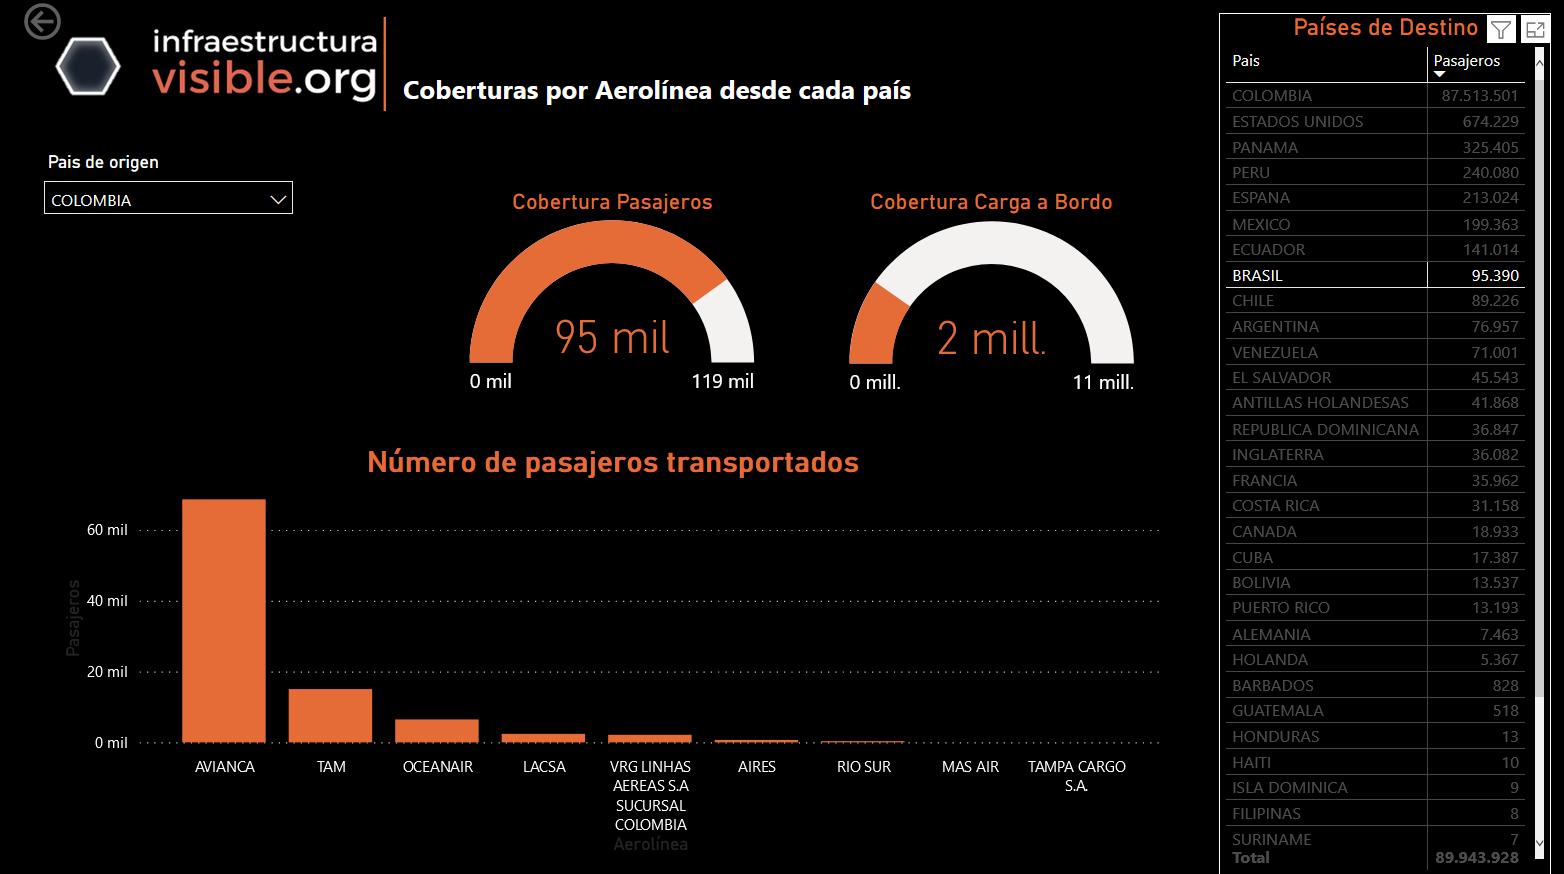

The dashboard page shown, as its layout file describes it:
{"tool":"powerbi","page":{"name":"Página 1","canvas":[1280,720],"ordinal":0},"visuals":[{"type":"slicer","fields":{"Values":["Tabla1.Pais Origen"]},"box":[28.8,20.6,223.9,70],"z":0},{"type":"columnChart","fields":{"Category":["Tabla1.Nombre Empresa"],"Y":["Sum(Tabla1.Pasajeros A Bordo)"]},"box":[50.8,359.8,890,329.6],"z":1000},{"type":"pivotTable","fields":{"Rows":["Tabla1.Pais Destino"],"Values":["Sum(Tabla1.Pasajeros A Bordo)"]},"box":[940.8,35.7,322.7,664.7],"z":2000},{"type":"gauge","fields":{"MaxValue":["Sum(Tabla1.Sillas)"],"Y":["Sum(Tabla1.Pasajeros A Bordo)"]},"box":[337.9,56.3,223.9,149.7],"z":3000},{"type":"gauge","fields":{"Y":["Sum(Tabla1.Carga Ofrecida Kg)"],"MinValue":["Sum(Tabla1.Carga a Bordo Kg)"]},"box":[609.8,57.7,285.7,148.3],"z":4000}]}

Visuals, with their boxes in screenshot pixels (x1, y1, x2, y2), scaled from the page's 1280x720 canvas onto the 1564x874 screenshot:
slicer - Tabla1.Pais Origen: region(35, 25, 309, 110)
columnChart - Tabla1.Nombre Empresa x Sum(Tabla1.Pasajeros A Bordo): region(62, 437, 1150, 837)
pivotTable - Tabla1.Pais Destino x Sum(Tabla1.Pasajeros A Bordo): region(1150, 43, 1544, 850)
gauge - Sum(Tabla1.Sillas) x Sum(Tabla1.Pasajeros A Bordo): region(413, 68, 686, 250)
gauge - Sum(Tabla1.Carga Ofrecida Kg) x Sum(Tabla1.Carga a Bordo Kg): region(745, 70, 1094, 250)
